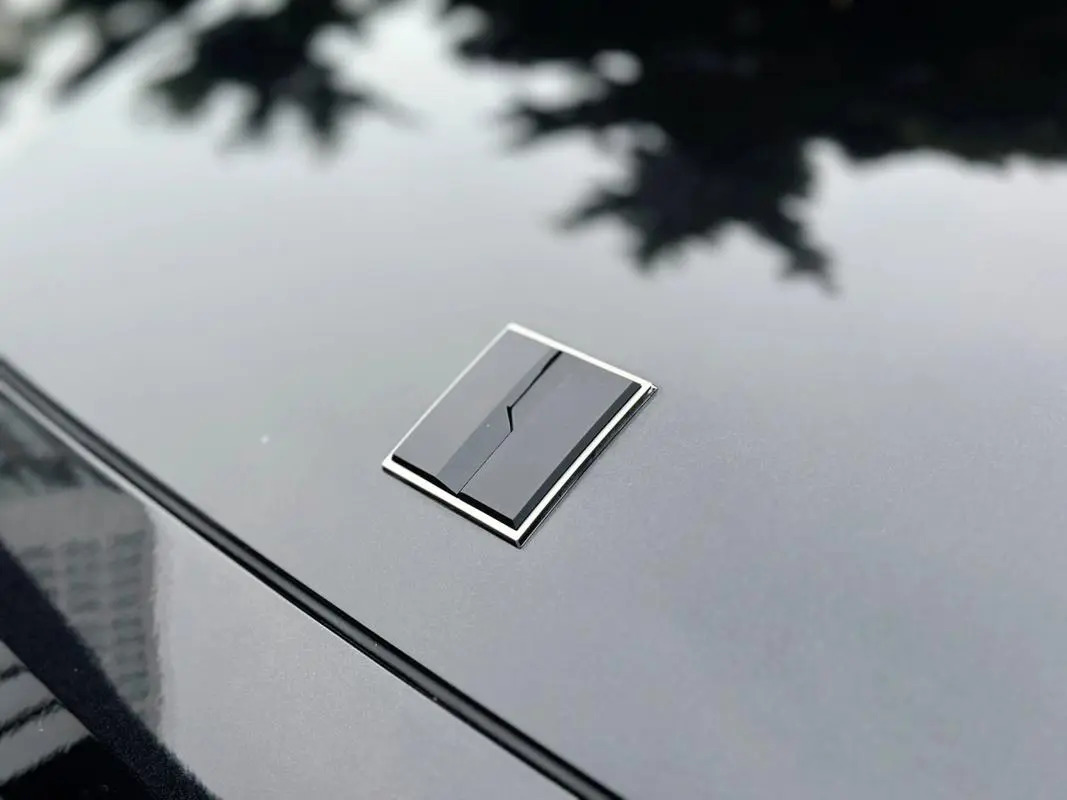LINK&CO: (383, 325, 655, 547)
